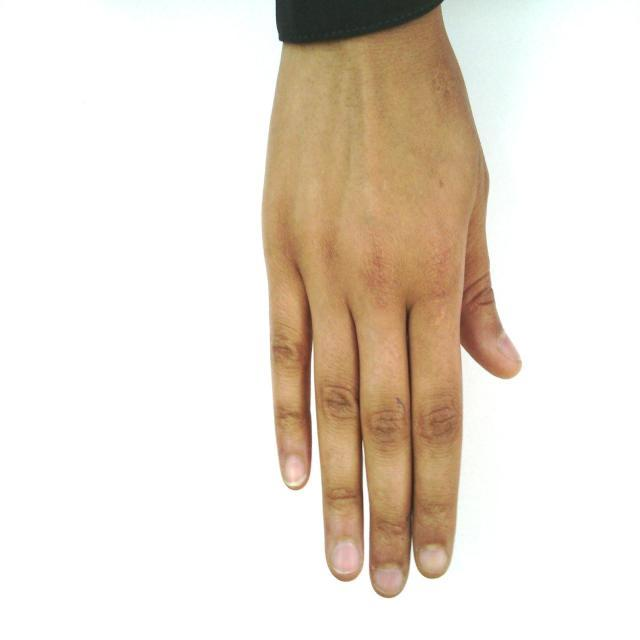Fingernail: (333, 541, 359, 573), (419, 546, 447, 574), (377, 567, 403, 592), (285, 457, 305, 486), (500, 335, 520, 363)
